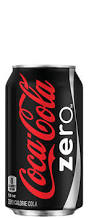can: (4, 61, 83, 218)
